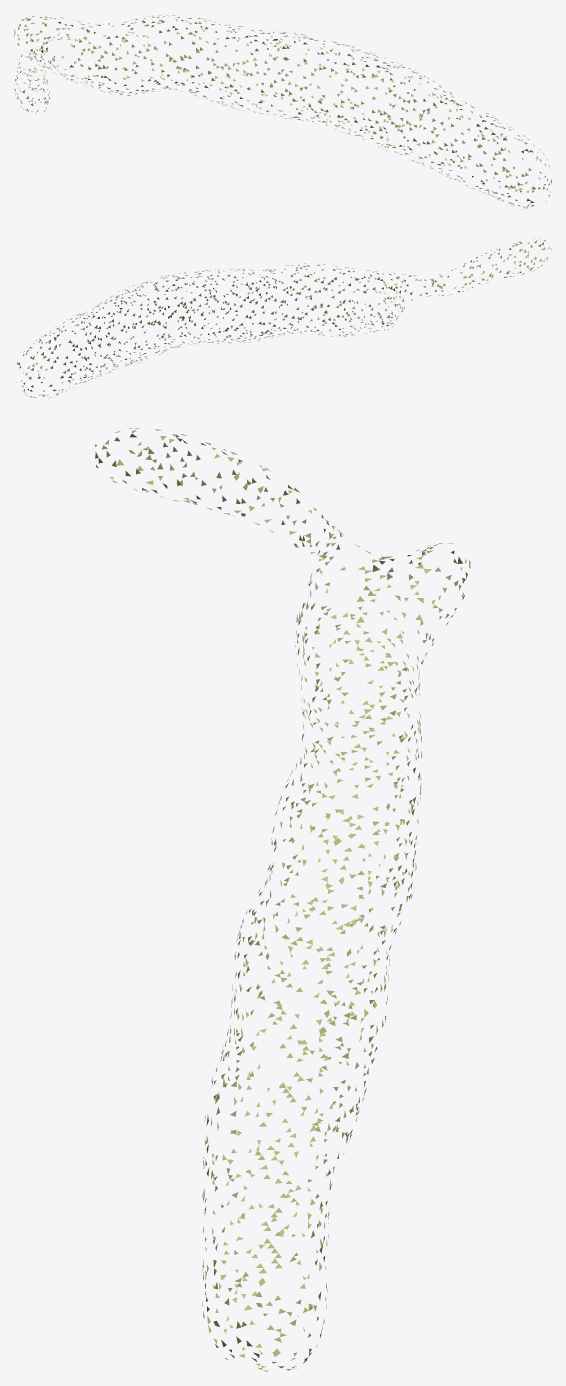
The model's file is morph_010.glb.
3 renders of one model, top to bottom at view 1: azimuth 30°, elevation 25°; view 2: azimuth 150°, elevation 25°; view 3: azimuth 270°, elevation 25°, orthographic. The views are drawn at different scales.
Size of the model in its own units: 112 by 53.34 by 36.99.
